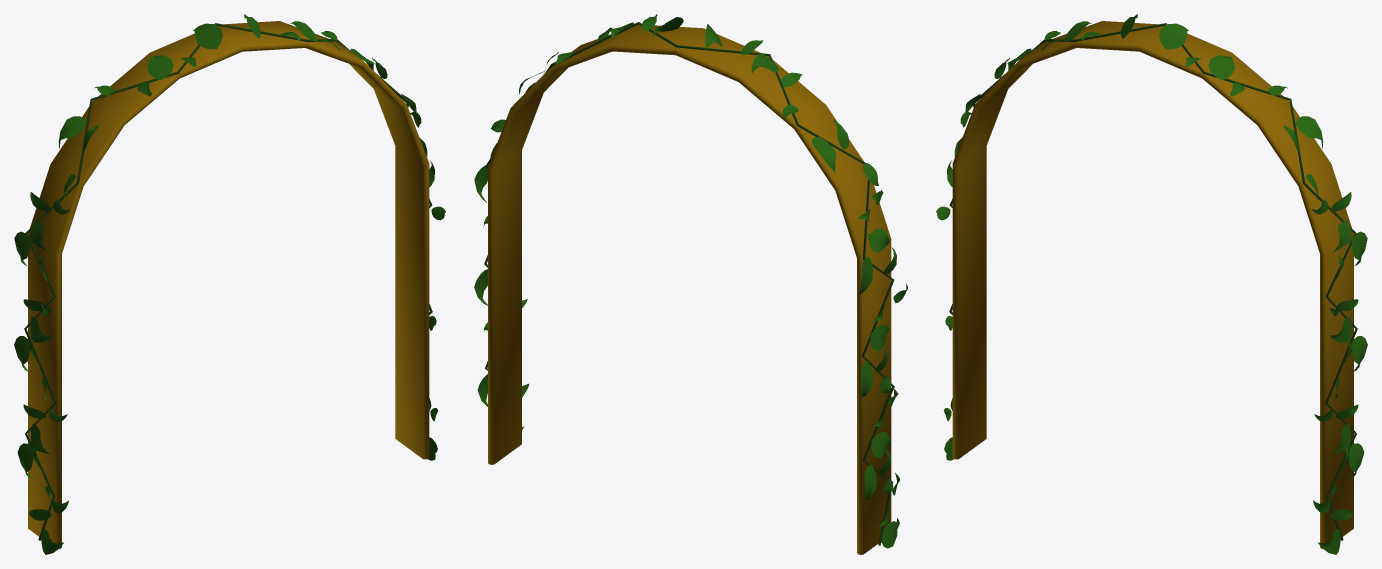
File: ivydoor.fbx
The picture shows the model from 3 angles, left to right: view 1: azimuth 30°, elevation 25°; view 2: azimuth 150°, elevation 25°; view 3: azimuth 330°, elevation 25°; orthographic projection.
Visible parts, largest first — view 1: ivydoor; view 2: ivydoor; view 3: ivydoor.
Part boxes in pixels (x1,y1,x2,y2): ivydoor: (14, 14, 445, 554); ivydoor: (474, 14, 907, 554); ivydoor: (936, 14, 1367, 554).
Bounding box in the file's own units: 1.44 × 1.65 × 0.2759.
